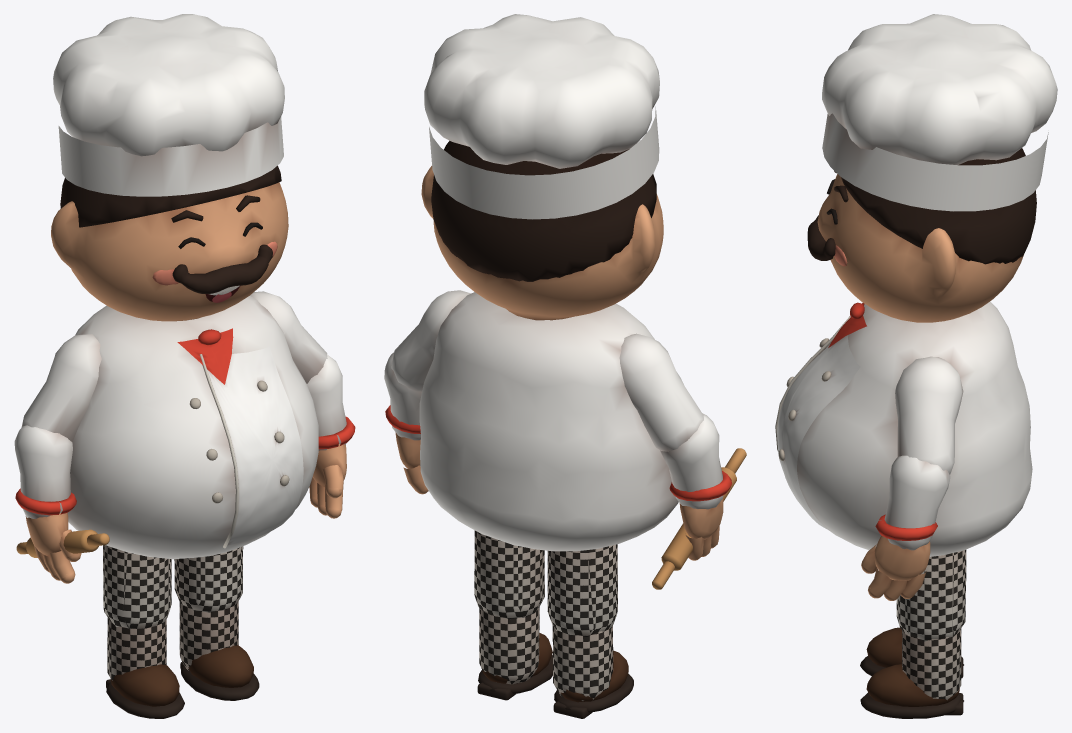
The model's file is fp-staff-marco.gltf.
The picture shows the model from 3 angles, left to right: view 1: azimuth 30°, elevation 25°; view 2: azimuth 150°, elevation 25°; view 3: azimuth 270°, elevation 25°; orthographic projection.
Visible parts, largest first — view 1: neck_mesh, model, elbow_r_mesh, knee_r_mesh, knee_l_mesh, upper_arm_r, thigh_r, elbow_l_mesh, thigh_l, upper_arm_l; view 2: neck_mesh, model, elbow_r_mesh, upper_arm_r, thigh_r, knee_r_mesh, knee_l_mesh, thigh_l, upper_arm_l, elbow_l_mesh; view 3: neck_mesh, model, elbow_l_mesh, knee_l_mesh, upper_arm_l, thigh_l, knee_r_mesh.
Part boxes in pixels (x1,y1,x2,y2): neck_mesh: (51,14,288,321); model: (67,296,318,559); elbow_r_mesh: (14,425,109,583); knee_r_mesh: (106,618,184,718); knee_l_mesh: (179,601,259,700); upper_arm_r: (21,334,101,441); thigh_r: (103,545,171,628); elbow_l_mesh: (307,354,355,518); thigh_l: (174,546,243,612); upper_arm_l: (250,291,327,383); neck_mesh: (421,14,663,320); model: (419,292,683,551); elbow_r_mesh: (652,413,746,589); upper_arm_r: (619,333,703,451); thigh_r: (547,544,617,636); knee_r_mesh: (552,625,633,718); knee_l_mesh: (477,606,552,700); thigh_l: (474,530,544,619); upper_arm_l: (391,290,470,391); elbow_l_mesh: (384,352,428,494); neck_mesh: (807,14,1057,322); model: (775,301,1032,556); elbow_l_mesh: (861,455,950,600); knee_l_mesh: (860,628,963,718); upper_arm_l: (895,356,963,474); thigh_l: (896,550,966,641); knee_r_mesh: (860,627,963,678).
Size of the model in its own units: 1.13 by 2.1 by 0.8297.
Materials: 21 (1 with a texture image).
